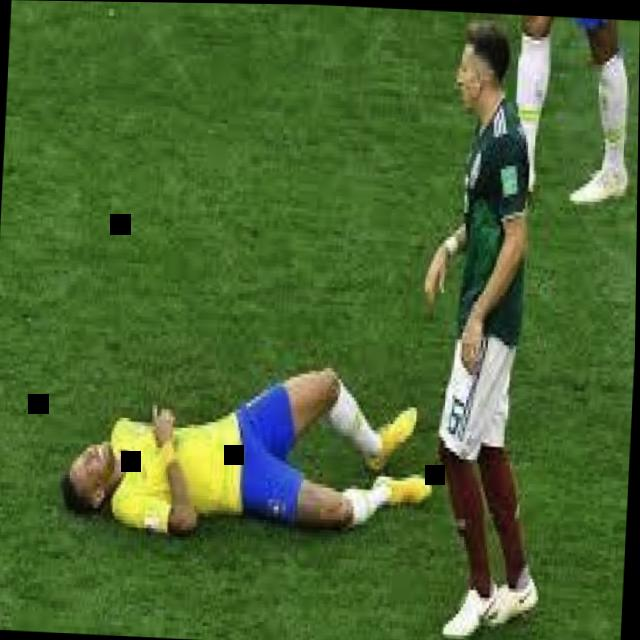Fall-Detected: (59, 312, 437, 547)
